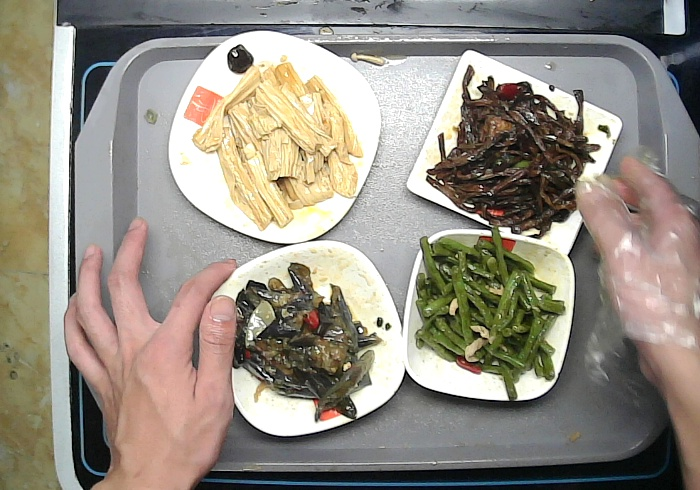SHKJ-Bai_Se_Cai_Die: (203, 240, 405, 437)
SHKJ-Bai_Se_Si_Fang_Cai_Die: (166, 27, 382, 247)
SHKJ-Bai_Se_Xiao_Fang_Die: (400, 229, 579, 403)
SHKJ-Si_Fang_Min: (403, 48, 623, 262)
